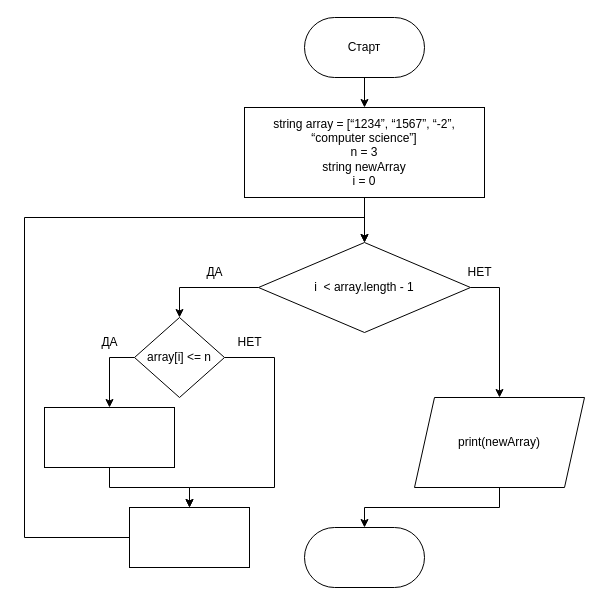
This 602x605 diagram has some shape labels left out. Here are the shapes that lost their labels. From the top down, the centre of each, then its label:
At point 109,437: "newArray.Add(array[i])".
At point 189,537: "i++".
At point 364,557: "конец".
